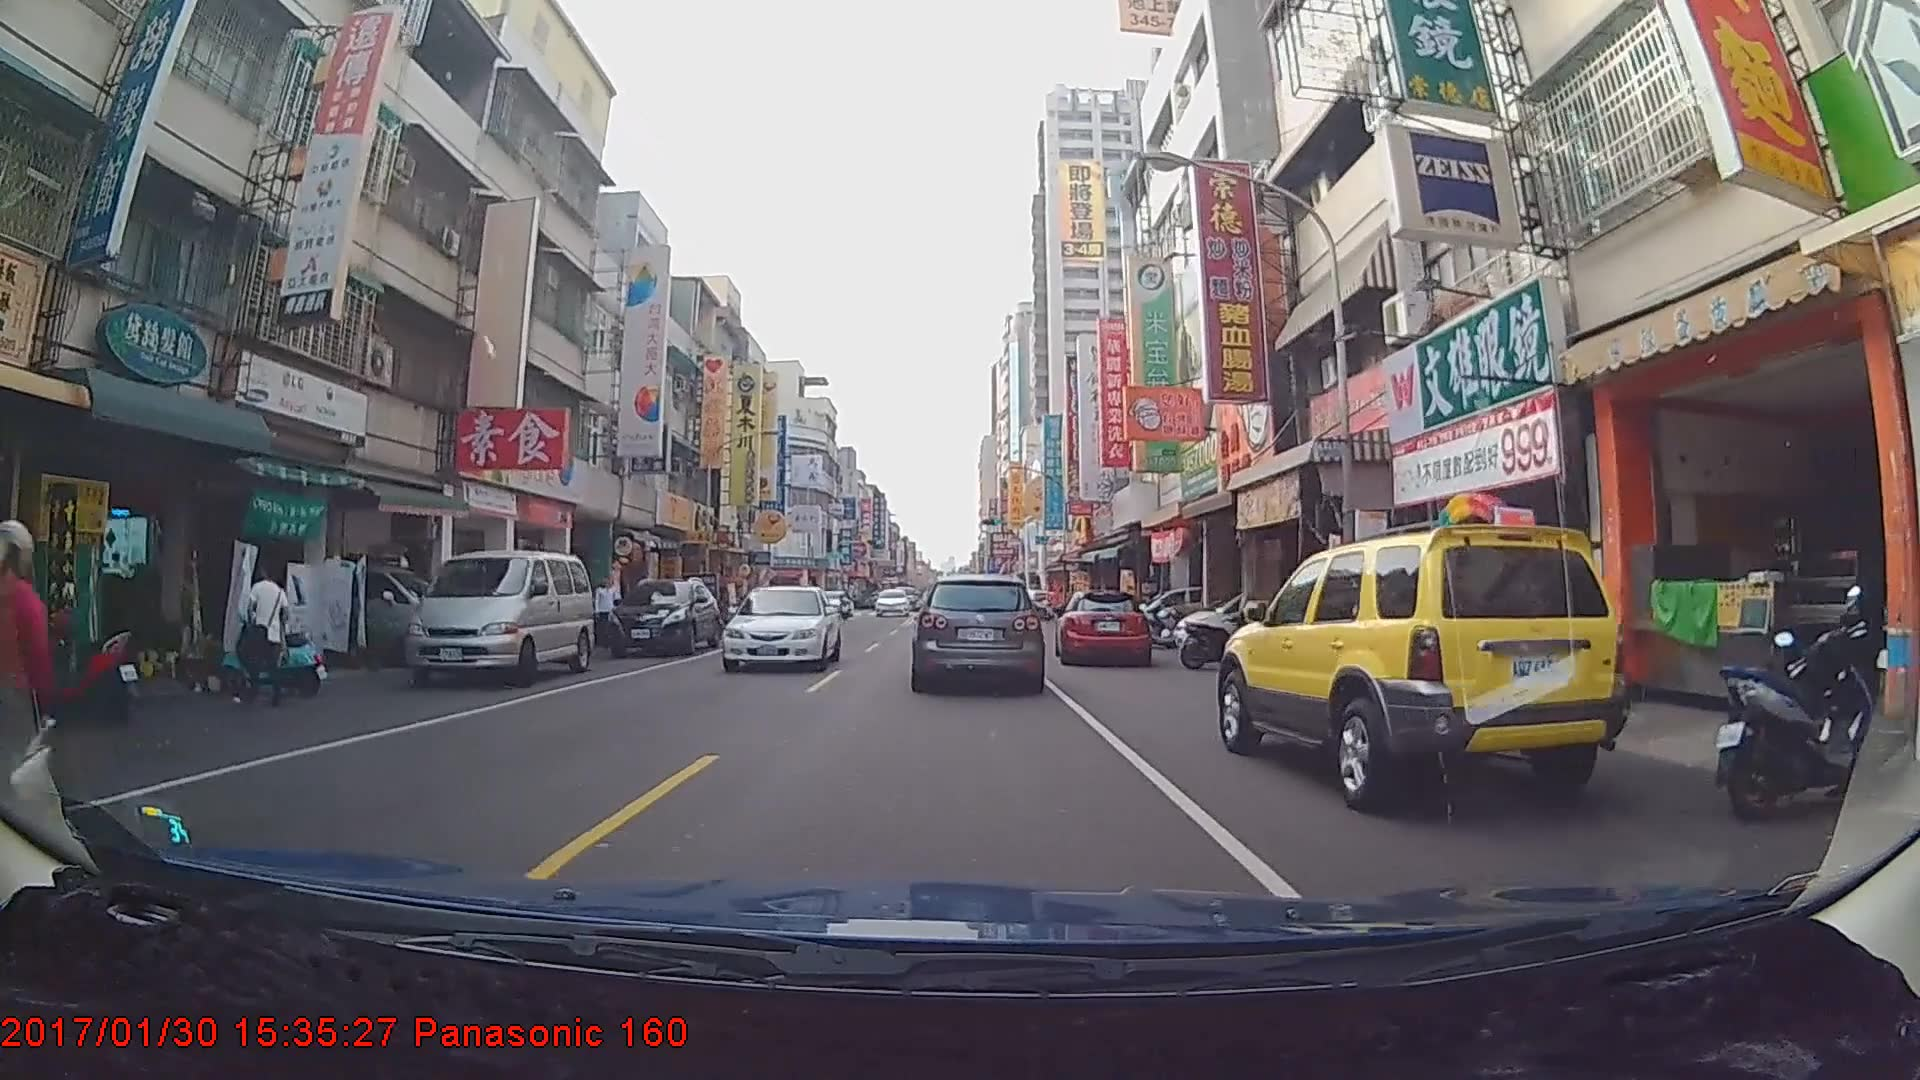pedestrian: (237, 560, 294, 705), (594, 575, 621, 647)
vehicle: (1217, 515, 1621, 803), (402, 548, 594, 684), (910, 573, 1043, 690), (723, 586, 841, 674), (607, 578, 719, 656), (1054, 587, 1152, 663), (875, 588, 910, 618)
